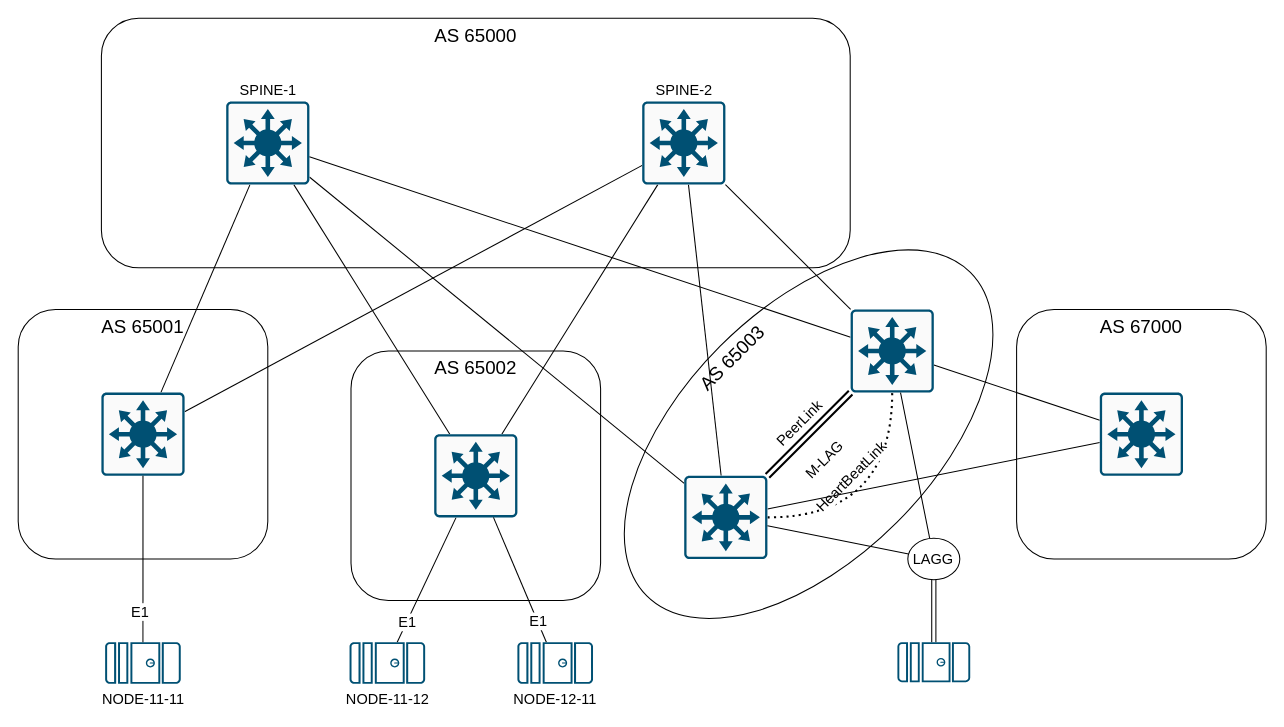
This 1284x727 diagram has some shape labels left out. The shapes that lost their labels are listed below. From the top down, each one's centre as x and y in pixels, then its label:
At pixel 892 350: "LEAF-3-2".
At pixel 142 434: "LEAF-1".
At pixel 1141 434: "InterVxLAN Router".
At pixel 475 475: "LEAF-2".
At pixel 725 517: "LEAF-3-1".
At pixel 933 662: "NODE-12-12".
